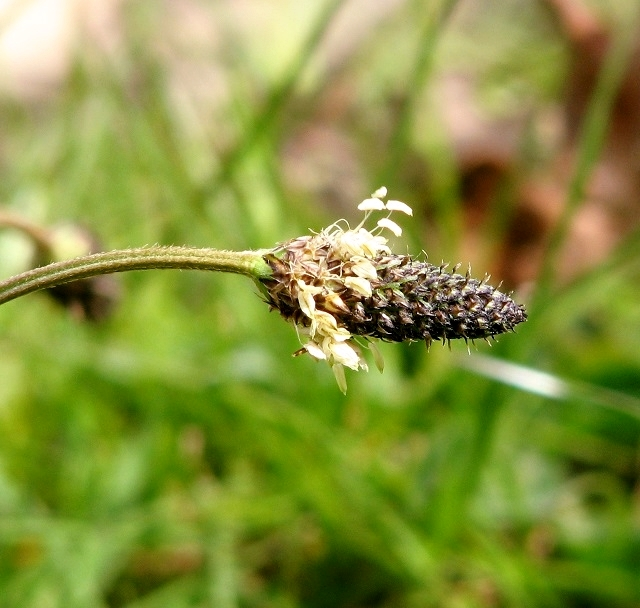buckhorn plantain: (3, 181, 523, 431)
